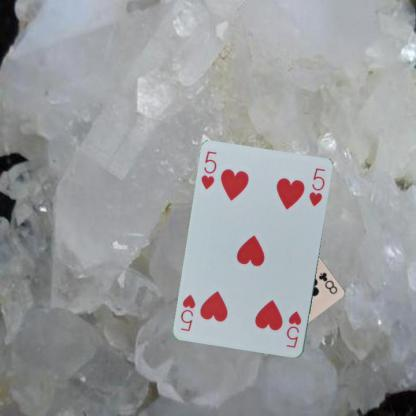5h: (199, 148, 218, 192), (284, 308, 302, 350)
8c: (316, 270, 338, 295)
